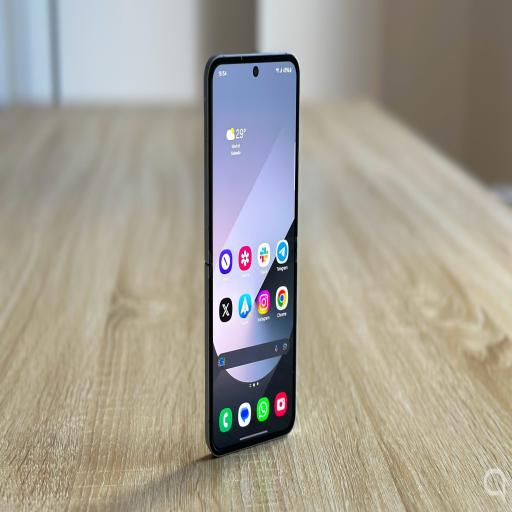phone: (199, 55, 302, 453)
